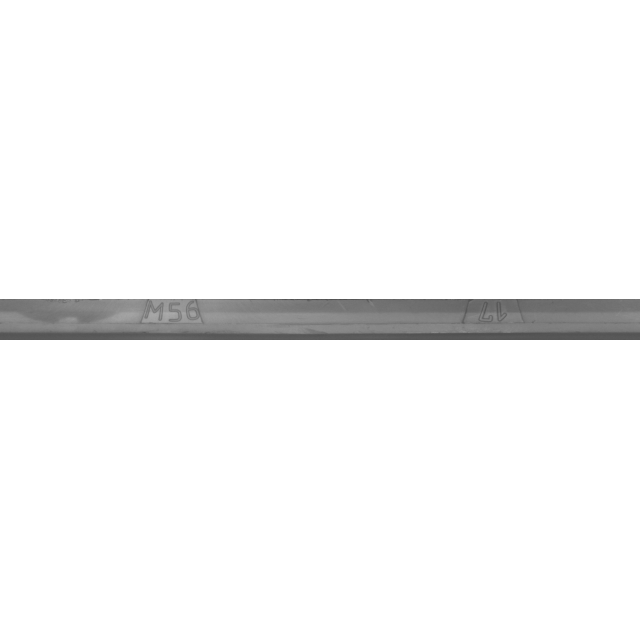mohao: (74, 270, 274, 370)
xuehao: (395, 270, 595, 370)
